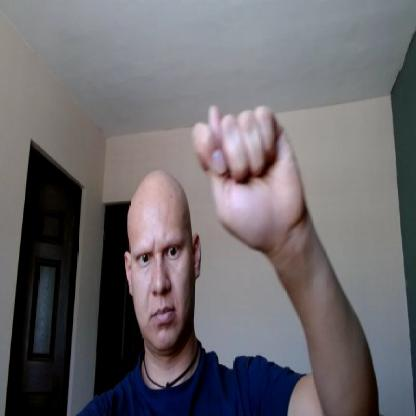T: (191, 99, 304, 249)
